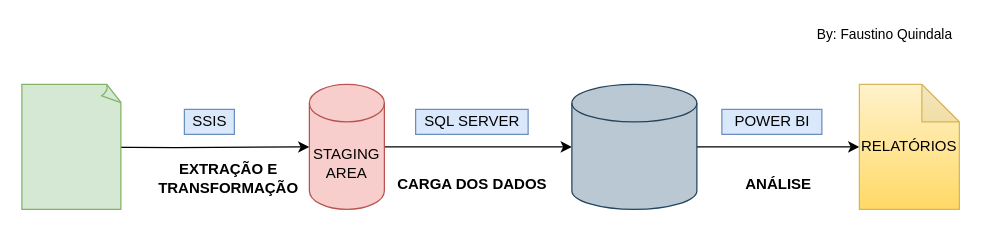
This 981x231 diagram has some shape labels left out. Each missing label, with the centre of its shape:
DATA WAREHOUSE: the point at 634,146
MULTIPLE EXCEL FILE SOURCE: the point at 71,146
